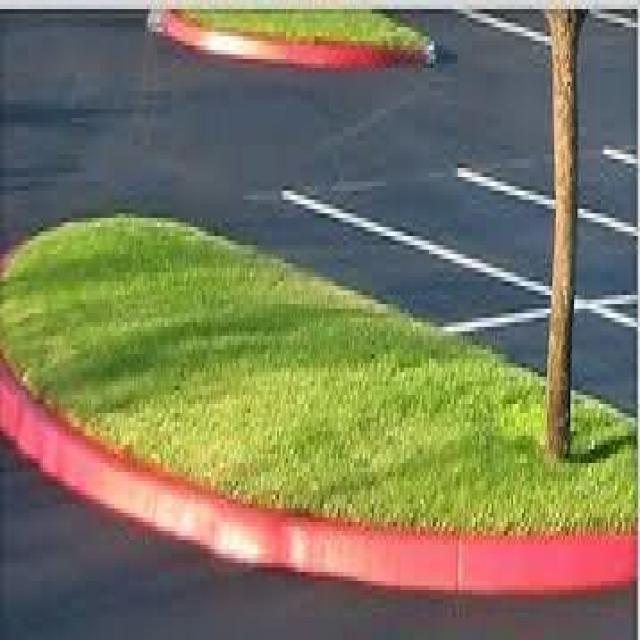curb: (5, 365, 640, 603), (153, 12, 428, 75)
